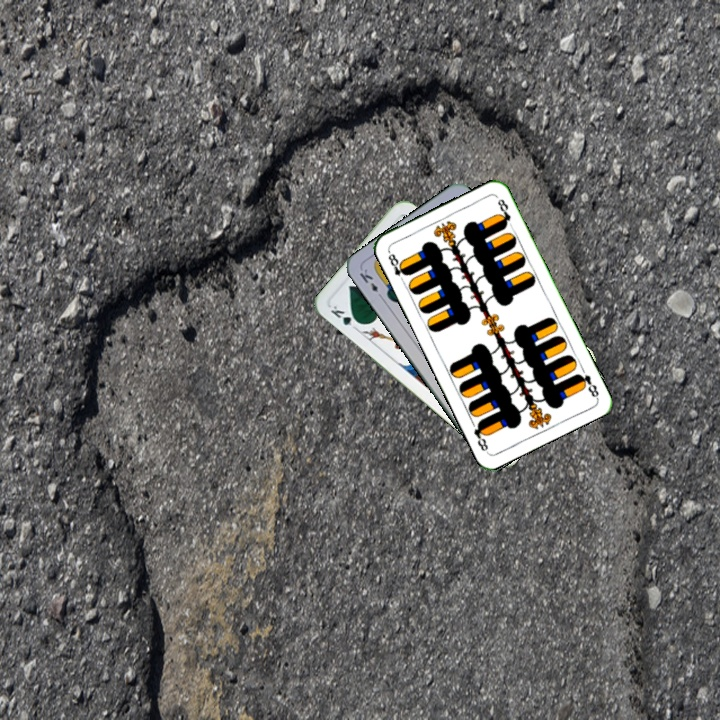E8: (384, 247, 411, 285), (573, 369, 601, 401)
EK: (355, 264, 386, 302)
GK: (327, 301, 363, 333)
